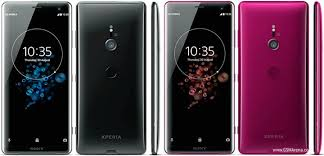sony: (157, 1, 233, 154), (75, 1, 151, 153), (234, 1, 310, 153), (1, 1, 76, 153)
